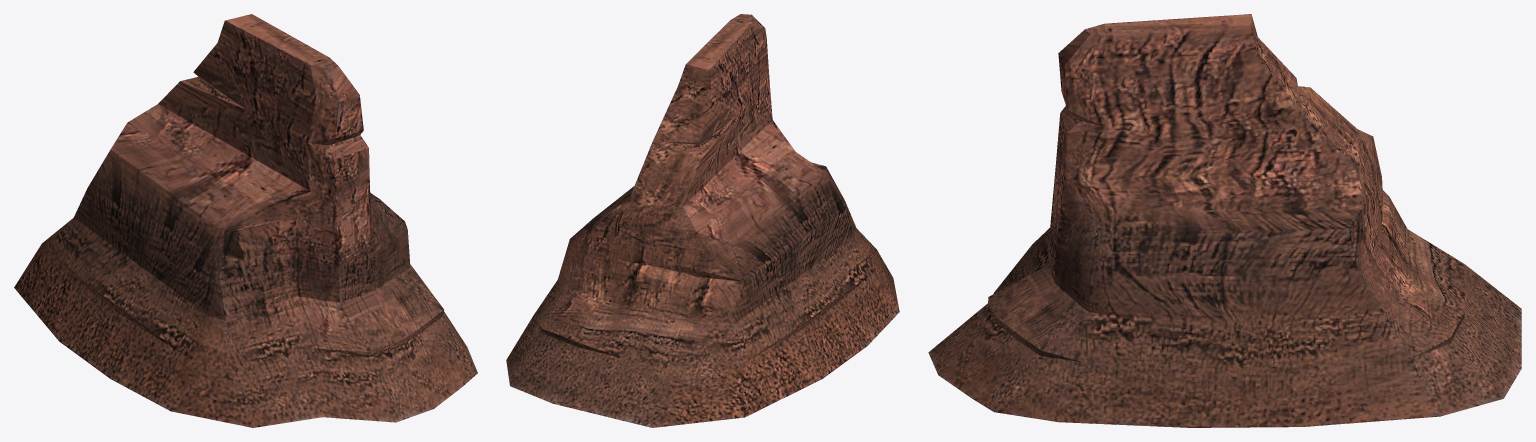
Rendered from object_51_lev2.glb.
The picture shows the model from 3 angles, left to right: view 1: azimuth 30°, elevation 25°; view 2: azimuth 150°, elevation 25°; view 3: azimuth 270°, elevation 25°; orthographic projection. The views are drawn at different scales.
Visible parts, largest first — view 1: object_51_lev2; view 2: object_51_lev2; view 3: object_51_lev2.
Part boxes in pixels (bbox=[...]): object_51_lev2: bbox=[14, 14, 477, 427]; object_51_lev2: bbox=[506, 14, 899, 427]; object_51_lev2: bbox=[928, 14, 1521, 427].
Bounding box in the file's own units: 7.01 × 6.44 × 10.6.
Materials: 1 (1 with a texture image).
